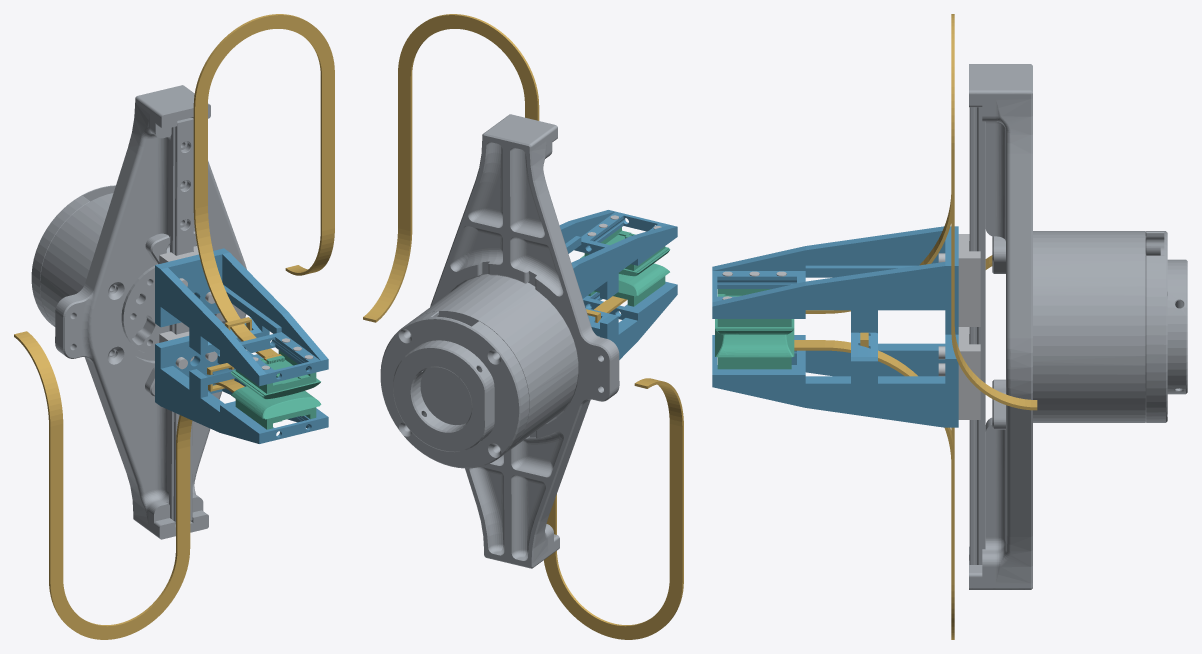
Rendered from assembly_open0.glb.
3 renders of one model, left to right at view 1: azimuth 30°, elevation 25°; view 2: azimuth 150°, elevation 25°; view 3: azimuth 270°, elevation 25°, orthographic. The views are drawn at different scales.
Parts seen in each view (by area): view 1: original_actuator_and_transmission, replacement_finger_2, service_loop_envelope_1, service_loop_envelope_2, replacement_finger_1, moving_harness_envelope_2, M2324_1, M2324_2, moving_harness_envelope_1; view 2: original_actuator_and_transmission, service_loop_envelope_2, service_loop_envelope_1, replacement_finger_2, replacement_finger_1, M2324_1, M2324_2; view 3: original_actuator_and_transmission, replacement_finger_2, replacement_finger_1, M2324_1, service_loop_envelope_2, retained_carrier_2, retained_carrier_1, M2324_2, moving_harness_envelope_1, service_loop_envelope_1.
Boxes of the visible parts, x1,y1,x2,y2 form: original_actuator_and_transmission: (31,85,246,539); replacement_finger_2: (155,248,328,386); service_loop_envelope_1: (14,331,190,639); service_loop_envelope_2: (193,14,334,275); replacement_finger_1: (155,336,328,443); moving_harness_envelope_2: (193,205,277,358); M2324_1: (231,386,321,429); M2324_2: (231,350,320,399); moving_harness_envelope_1: (176,379,244,449); original_actuator_and_transmission: (380,114,619,568); service_loop_envelope_2: (363,14,539,322); service_loop_envelope_1: (544,378,683,639); replacement_finger_2: (559,210,677,299); replacement_finger_1: (583,281,677,359); M2324_1: (588,263,669,306); M2324_2: (580,227,670,276); original_actuator_and_transmission: (969,64,1187,589); replacement_finger_2: (712,226,958,334); replacement_finger_1: (712,332,958,427); M2324_1: (715,329,794,369); service_loop_envelope_2: (951,14,1037,410); retained_carrier_2: (958,234,980,326); retained_carrier_1: (958,327,980,419); M2324_2: (715,289,794,334); moving_harness_envelope_1: (794,340,954,464); service_loop_envelope_1: (951,255,992,639).
Size of the model in its own units: 0.1152 by 0.2266 by 0.1412.
